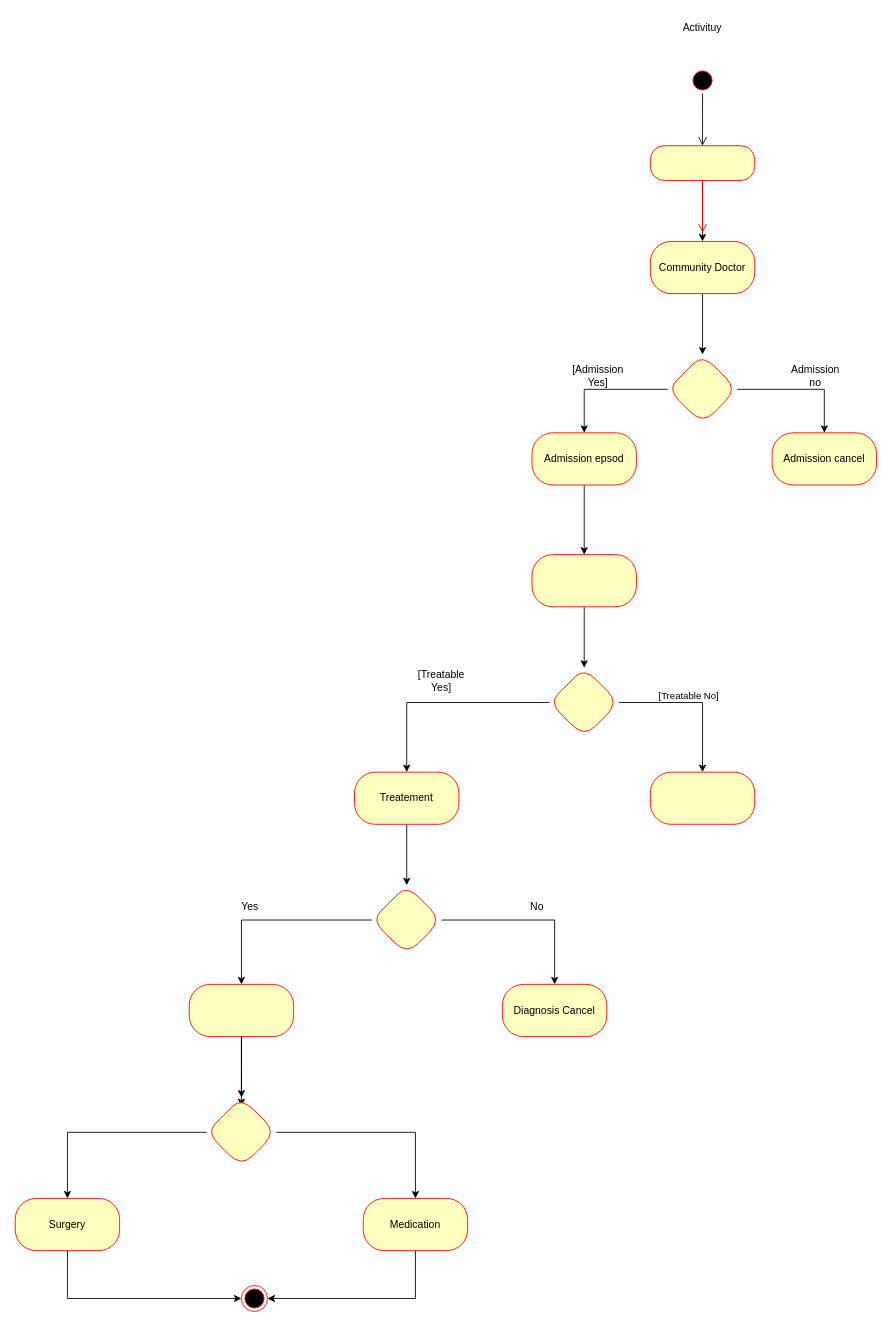
The diagram is 892 pixels wide and 1327 high, and some of its shapes have lost their labels. The centre of each missing label's shape, as x and y in pixels:
"Diagnosis" goes at [241,1010].
"Hospital Doctor" goes at [583,580].
"patient" goes at [702,163].
"Treatement cancel" goes at [702,797].
